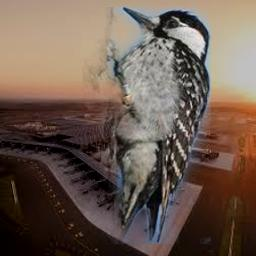Woodpecker: (81, 7, 211, 244)
